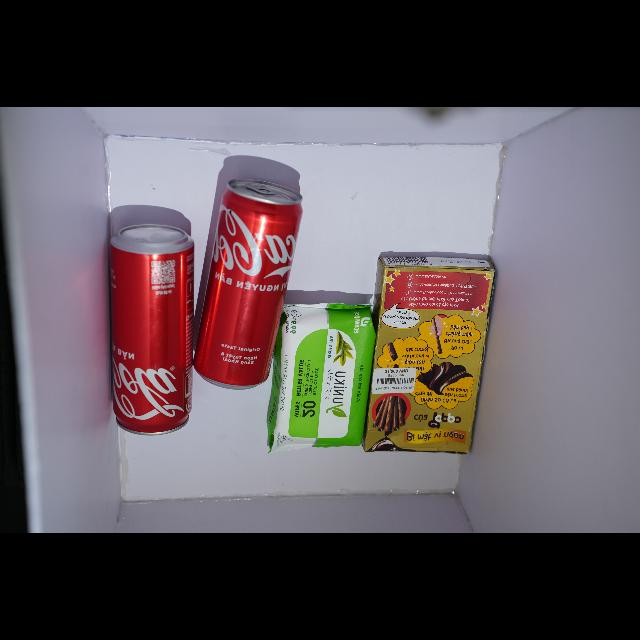banh_toppo_socola: (362, 257, 495, 454)
coca_cola: (194, 179, 302, 389), (110, 224, 194, 435)
khan_giay: (269, 305, 375, 452)
